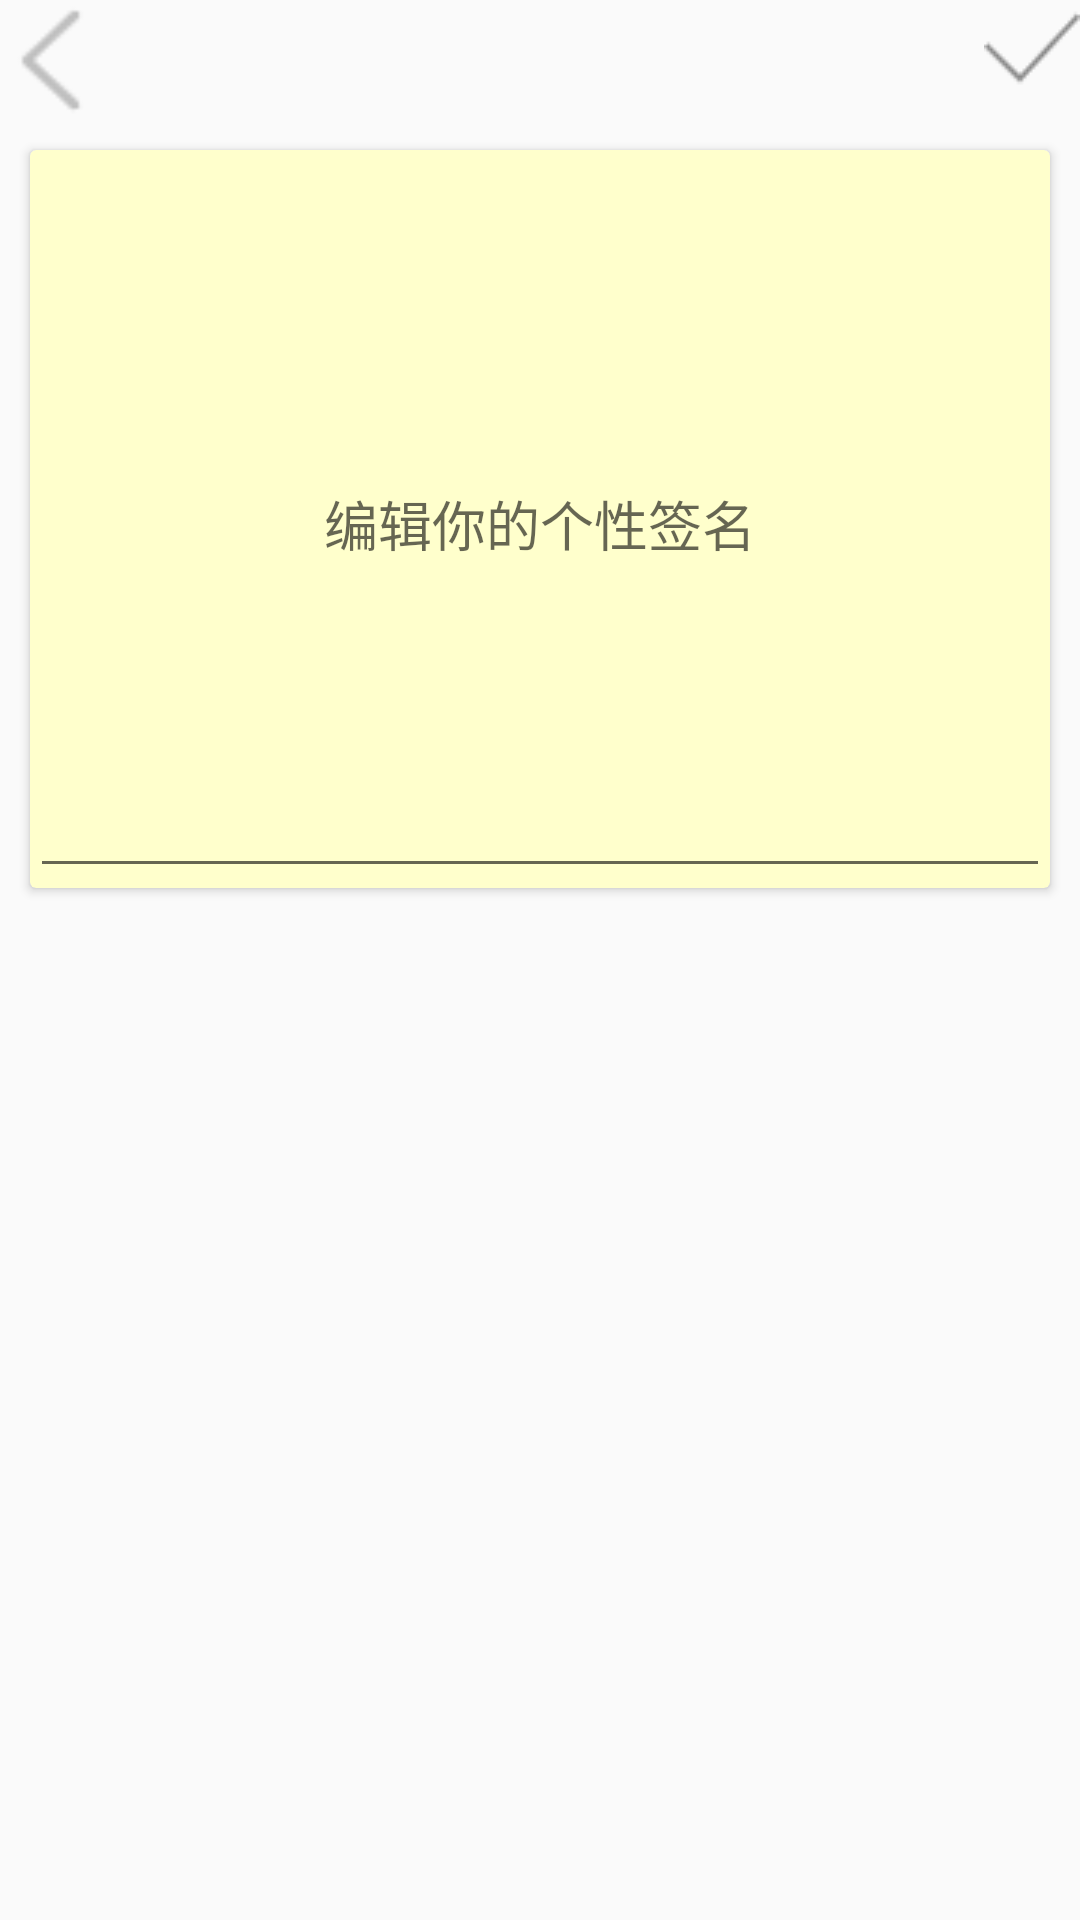

Screen size 1080*1920. Icon name, then its center in pixels as point (x, y):
back: point (50, 60)
save: point (1032, 48)
